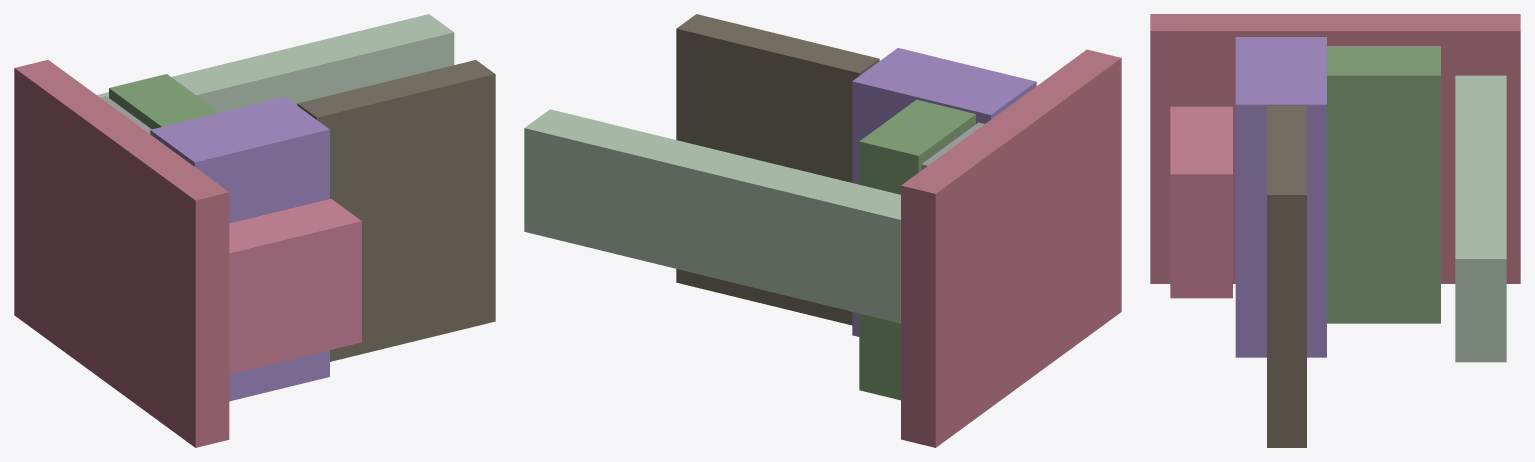
3 views of the same model, side by side, from view 1: azimuth 30°, elevation 25°; view 2: azimuth 150°, elevation 25°; view 3: azimuth 270°, elevation 25° (orthographic). The views are drawn at different scales.
Visible parts, largest first — view 1: world; view 2: world; view 3: world.
Part boxes in pixels (x1=…): world: x1=14, y1=14, x2=495, y2=447; world: x1=524, y1=14, x2=1121, y2=447; world: x1=1150, y1=14, x2=1520, y2=447.
Size of the model in its own units: 8.45 by 4.95 by 6.5.
